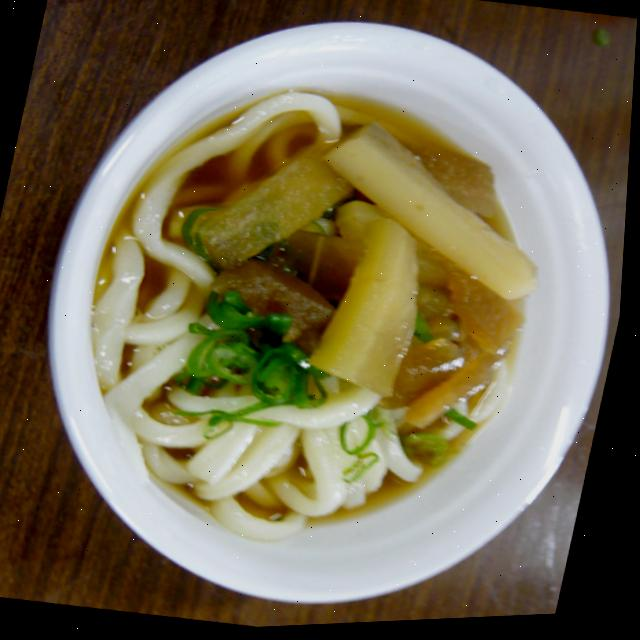面条主食: (1, 34, 615, 595)
